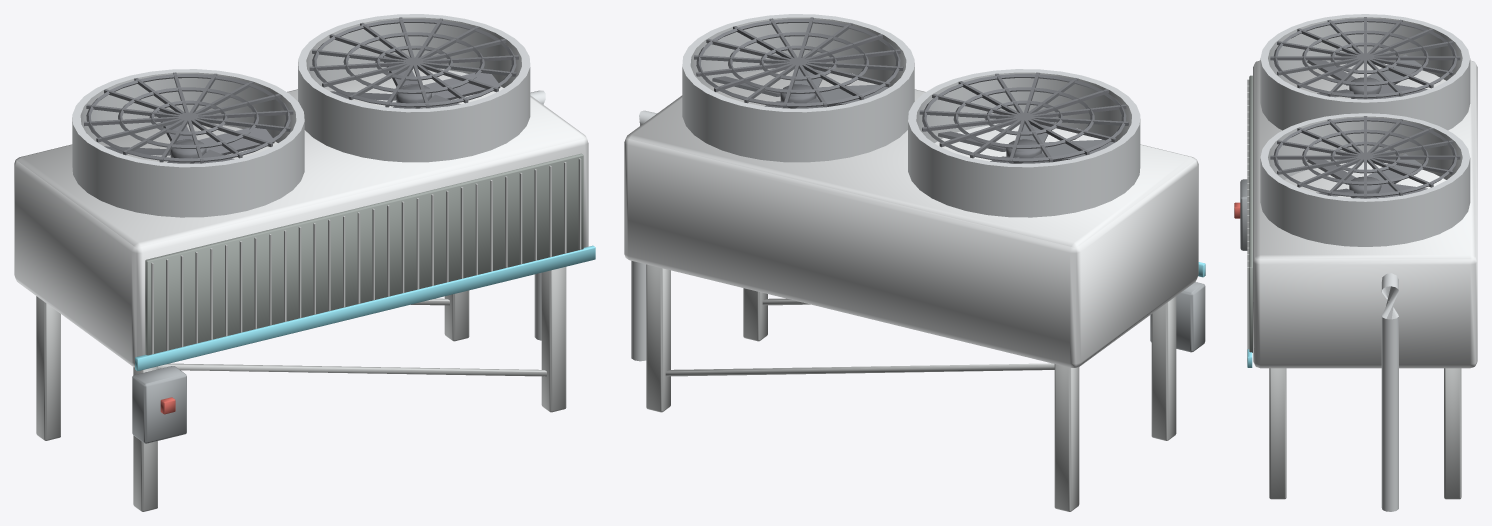
Rendered from dry_cooler.glb.
3 renders of one model, left to right at view 1: azimuth 30°, elevation 25°; view 2: azimuth 150°, elevation 25°; view 3: azimuth 270°, elevation 25°, orthographic. The views are drawn at different scales.
Visible parts, largest first — view 1: Body, Fan.001, Fan; view 2: Body, Fan, Fan.001; view 3: Body, Fan.001, Fan.
Boxes of the visible parts, left/top/right/bottom form: Body: left=14, top=14, right=595, bottom=511; Fan.001: left=330, top=56, right=500, bottom=108; Fan: left=104, top=111, right=274, bottom=163; Body: left=624, top=14, right=1205, bottom=511; Fan: left=938, top=109, right=1114, bottom=163; Fan.001: left=712, top=54, right=889, bottom=108; Body: left=1234, top=14, right=1477, bottom=511; Fan.001: left=1307, top=153, right=1427, bottom=198; Fan: left=1307, top=54, right=1427, bottom=99.
Bounding box in the file's own units: 2.06 × 1.33 × 0.975.
